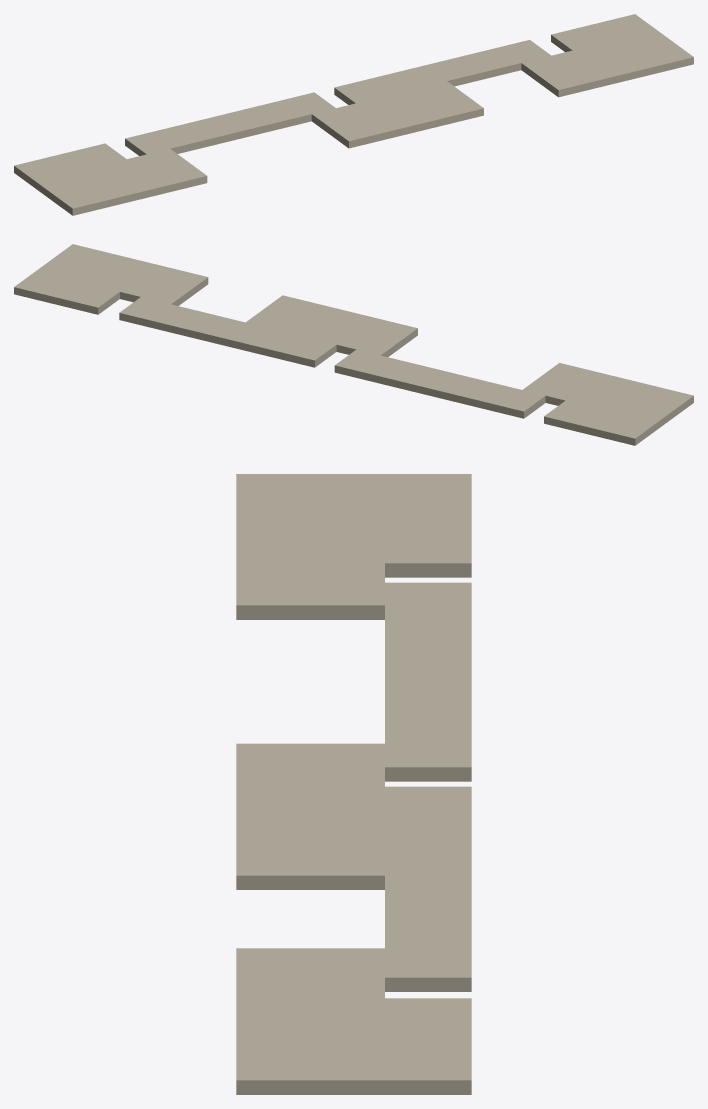
The picture shows the model from 3 angles, top to bottom: view 1: azimuth 30°, elevation 25°; view 2: azimuth 150°, elevation 25°; view 3: azimuth 270°, elevation 25°; orthographic projection. The views are drawn at different scales.
Parts seen in each view (by area): view 1: A-FF-SLAB-1; view 2: A-FF-SLAB-1; view 3: A-FF-SLAB-1.
Part boxes in pixels (<box>): A-FF-SLAB-1: <box>14,14,693,215</box>; A-FF-SLAB-1: <box>14,244,693,445</box>; A-FF-SLAB-1: <box>236,474,471,1094</box>.
Bounding box in the file's own units: 26.55 × 0.295 × 4.36.
